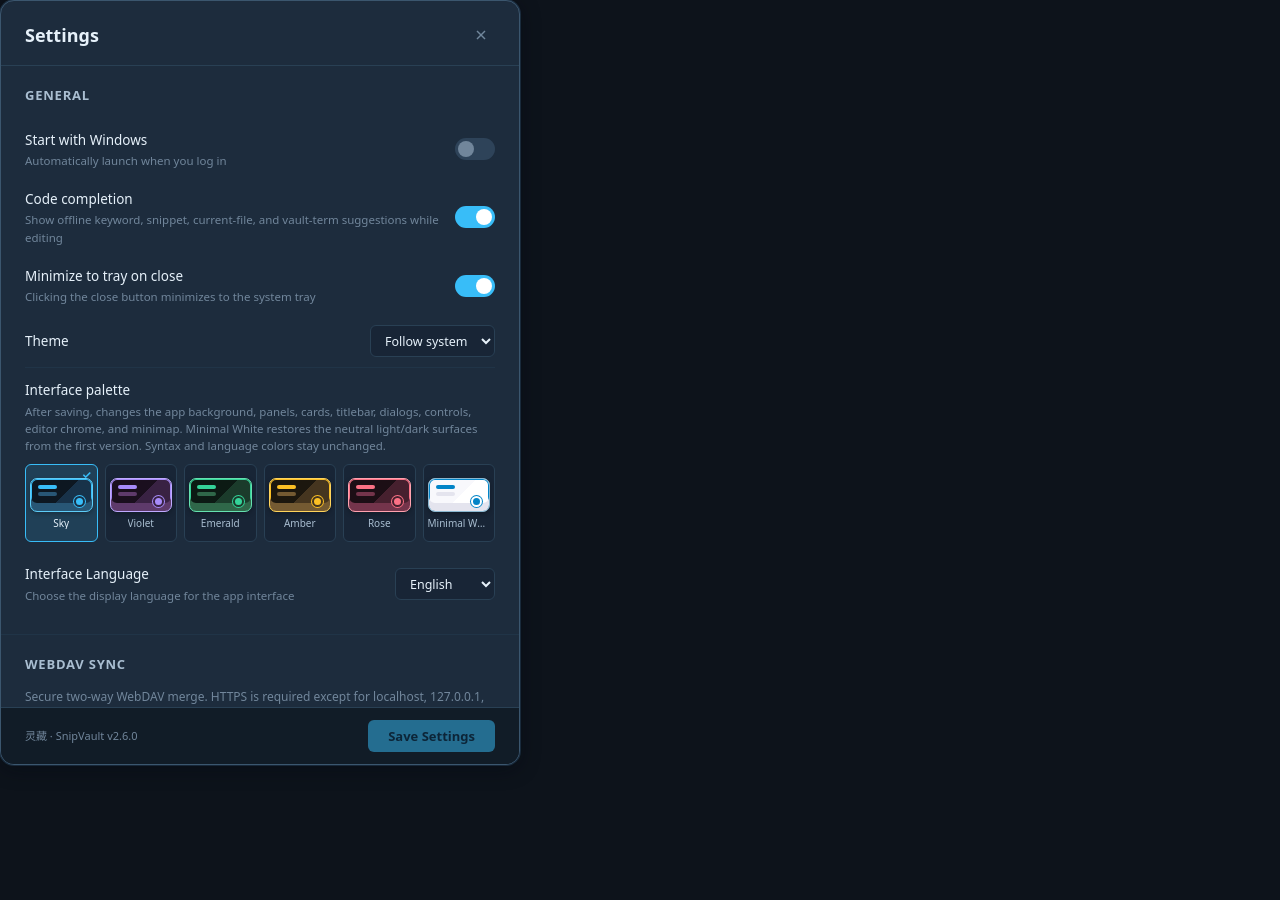
Test: SettingsPanel draft behavior › guards Escape with save/discard/cancel and stays open on save failure
Click the checkbox labelled "Start with Windows Automatically launch when you log in" at (475, 149), box [455,138,495,160]
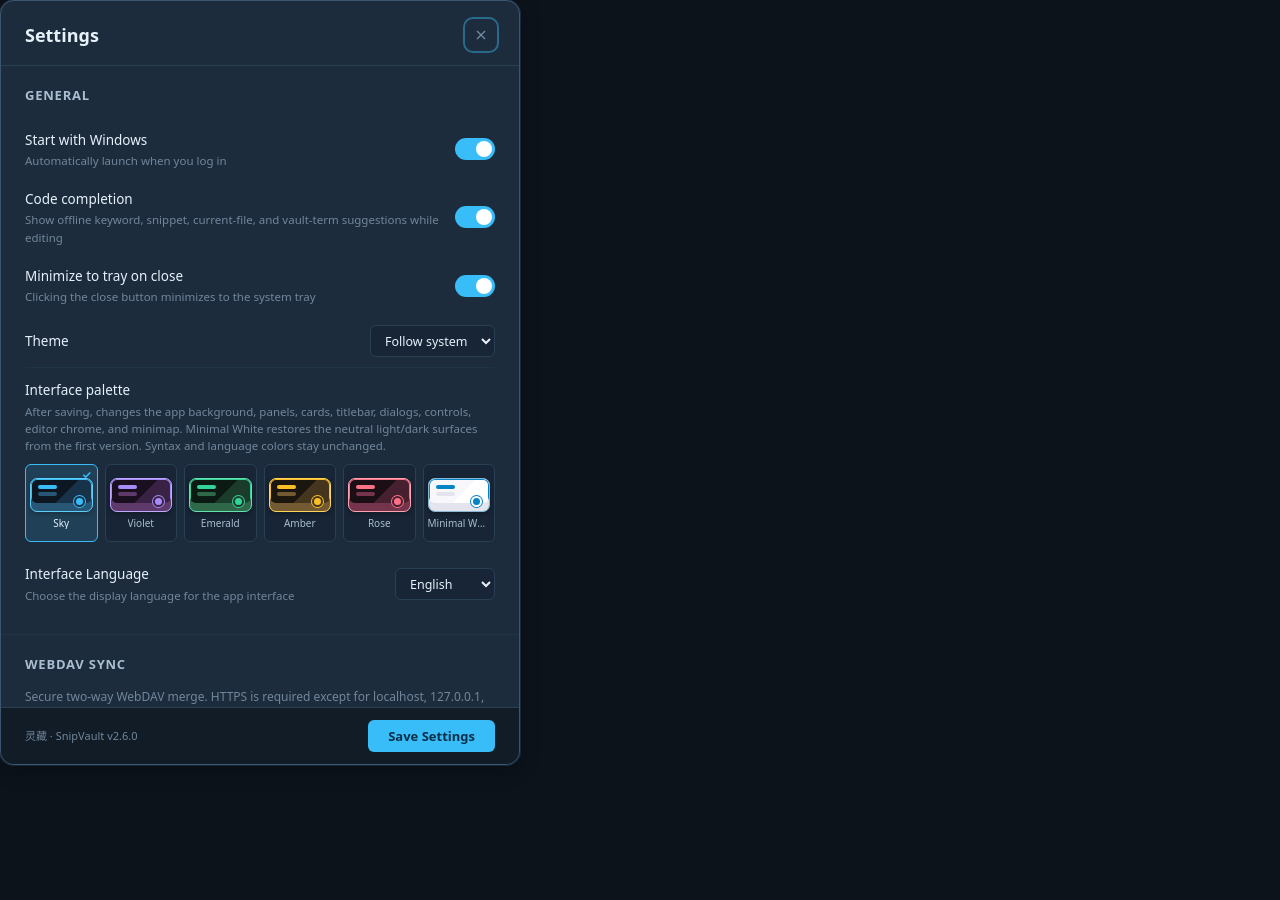
Press Escape
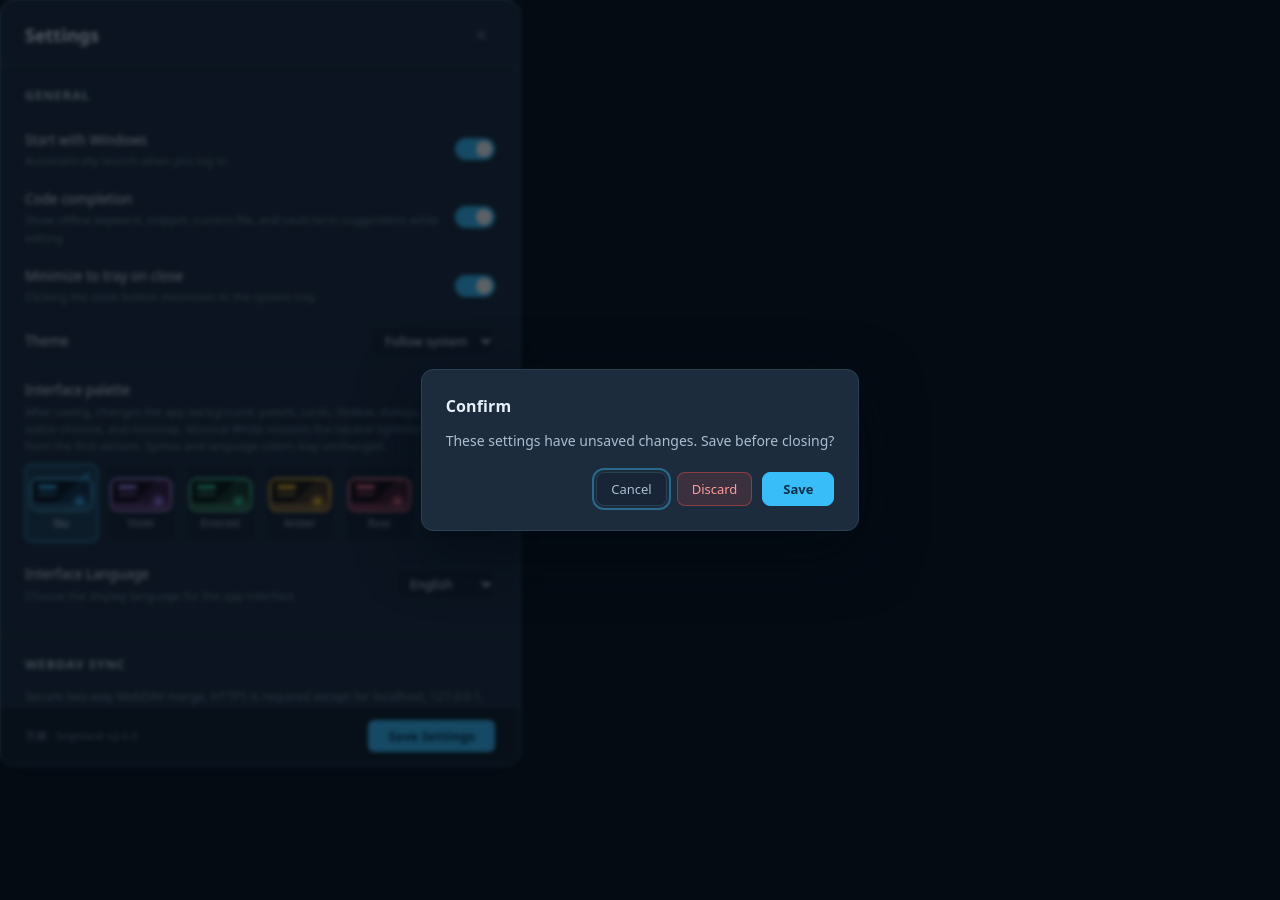
Press Escape
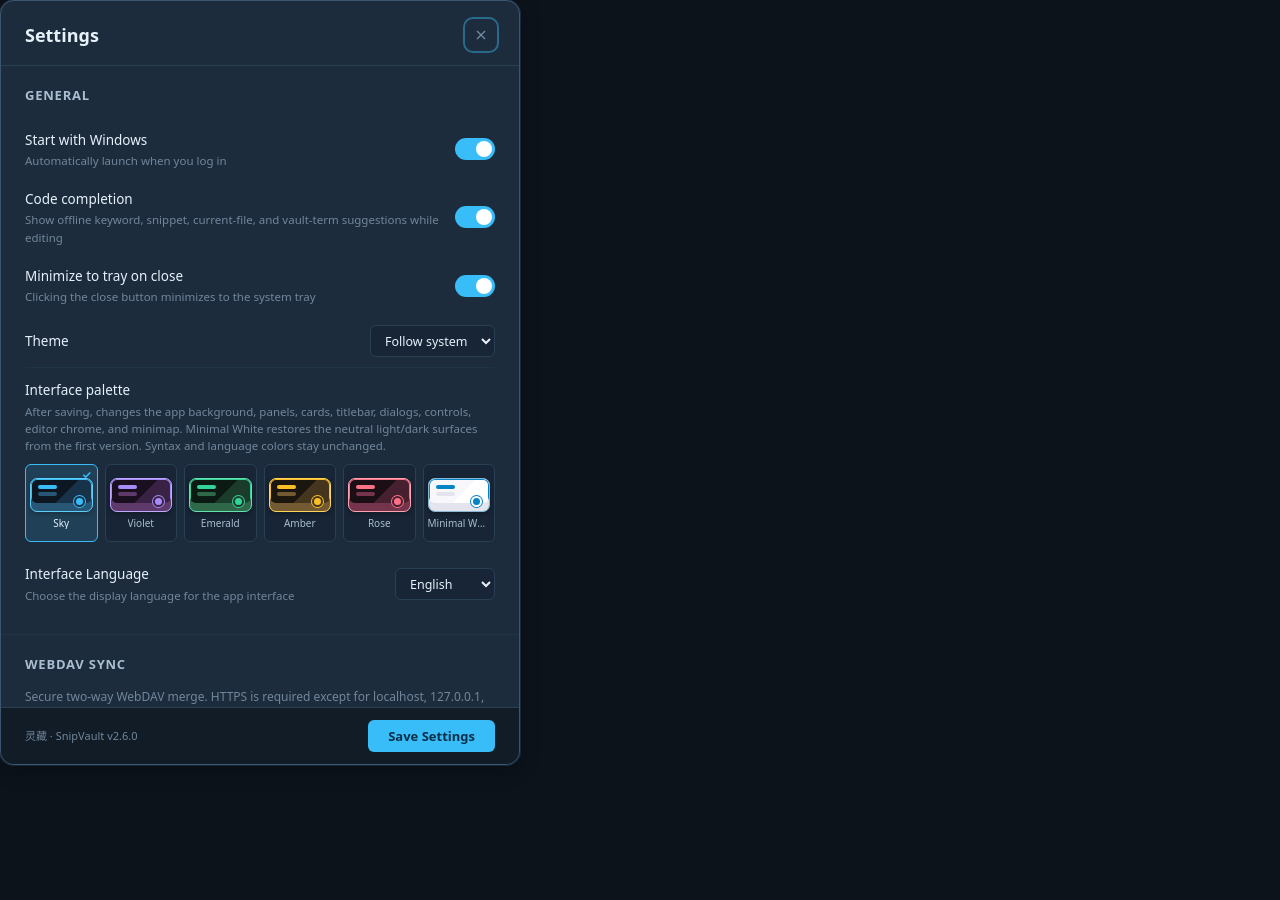
Now the text "Confirm" is gone
Press Escape
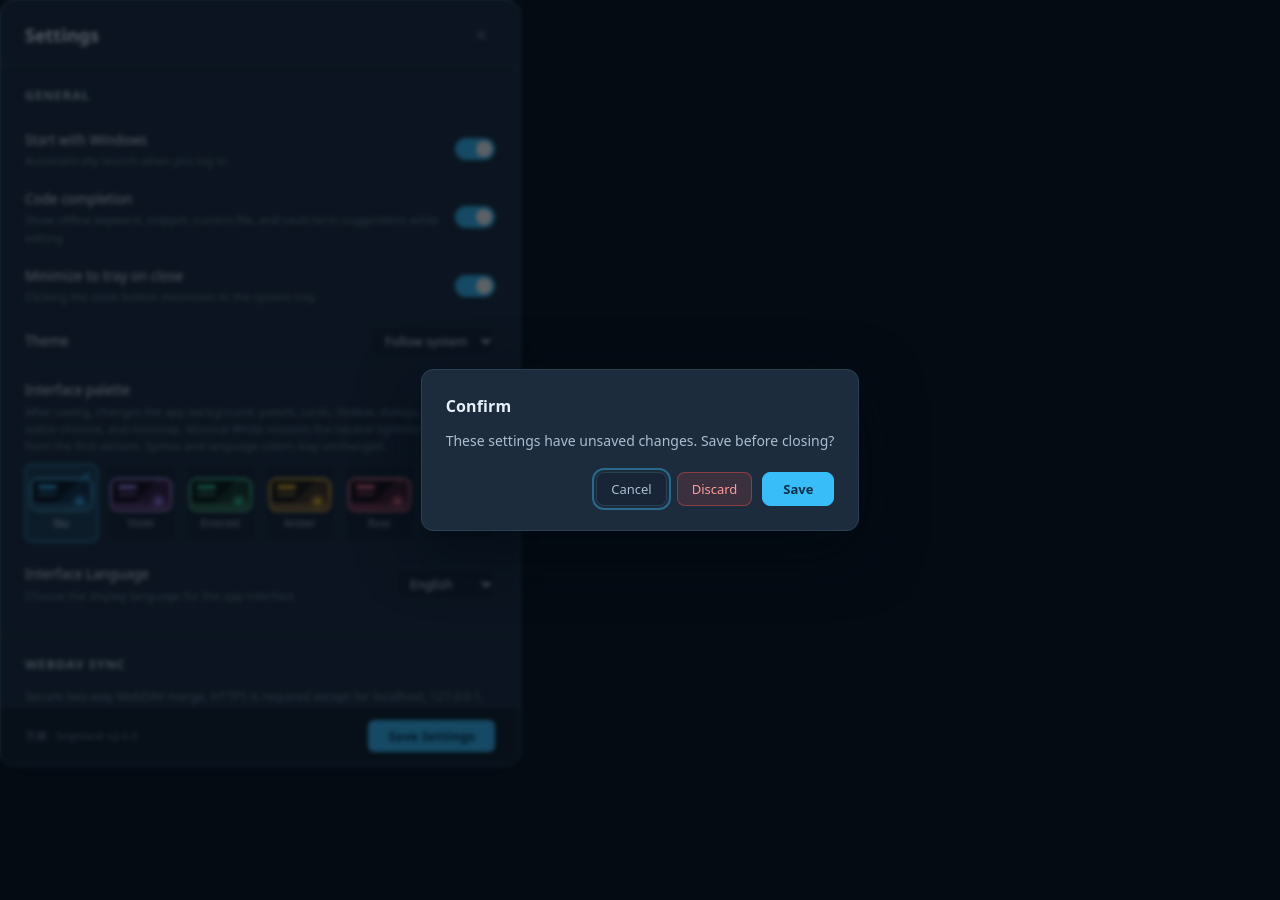
Click the button "Save" at (798, 489), box [762,472,834,506]
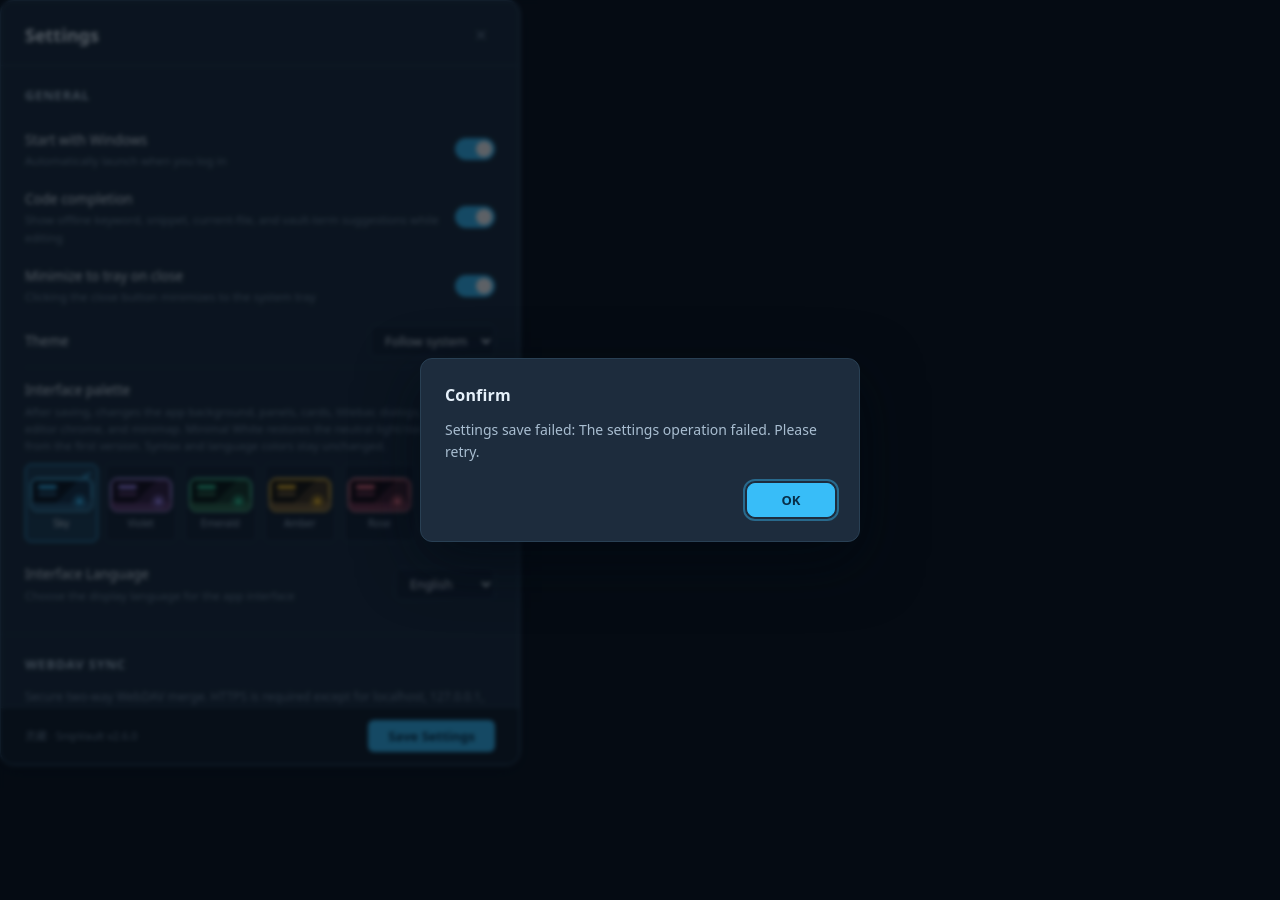
Expected: the dialog "Settings" is shown, [0,0,520,765]
Now the text "Settings save failed" is shown, box [445,420,817,461]
